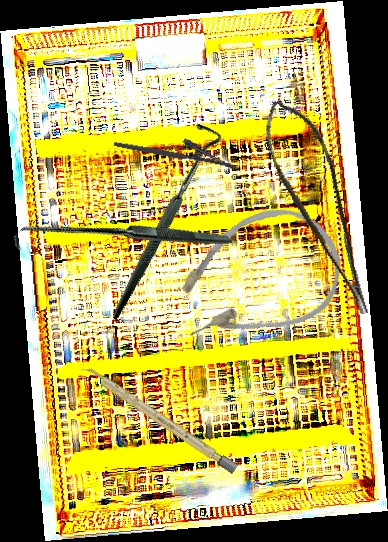Cannula: (155, 190, 358, 365)
Hook Surgical: (10, 129, 233, 353), (48, 116, 274, 321)
Micro Scissor: (254, 91, 377, 327)
Needle Holder: (113, 125, 241, 171)
Scalpel Handle: (80, 362, 239, 475)
